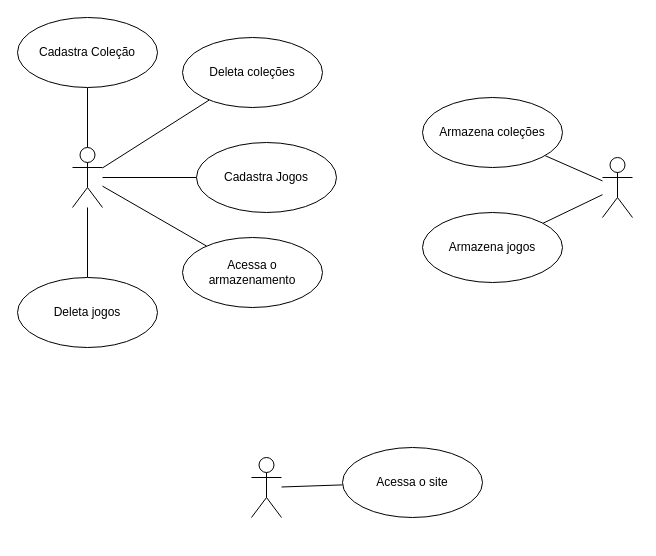
Image size: 656x556. Some labels were removed from this diagram. Here are the shapes that lost their labels. From the top down, the centre of each, then its label:
point (87, 177): Funcionário
point (617, 187): Sistema
point (266, 487): Cliente
